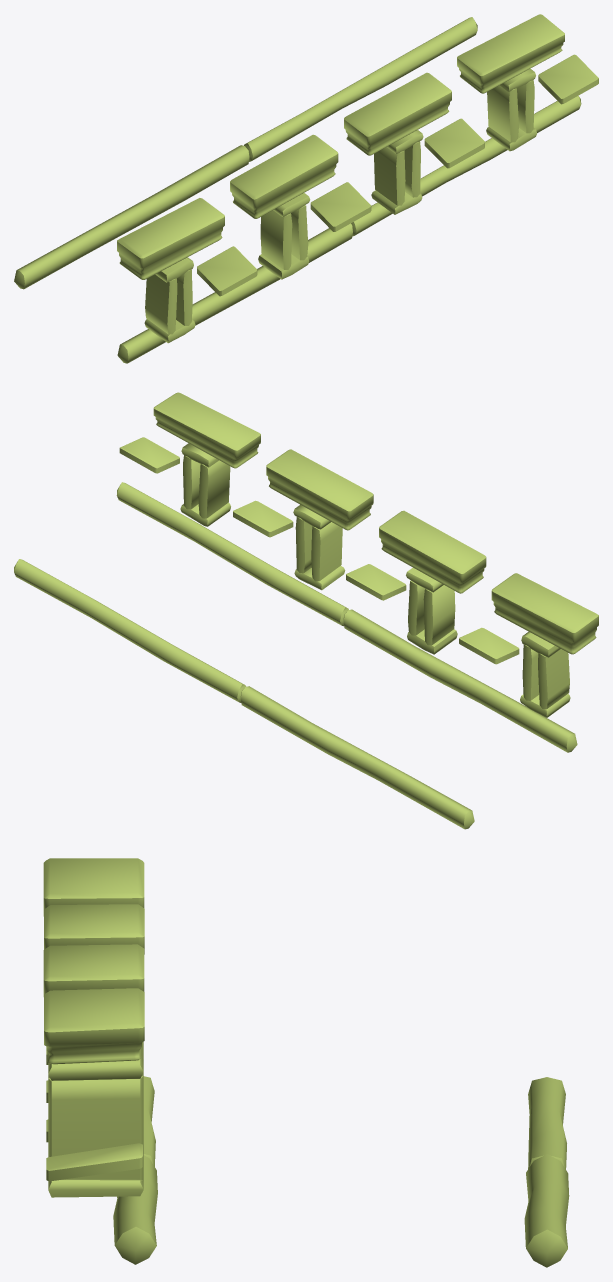
File: wall_outer_10m_up_deco.fbx
The picture shows the model from 3 angles, top to bottom: view 1: azimuth 30°, elevation 25°; view 2: azimuth 150°, elevation 25°; view 3: azimuth 270°, elevation 25°; orthographic projection. The views are drawn at different scales.
Visible parts, largest first — view 1: Cube.096; view 2: Cube.096; view 3: Cube.096.
Boxes of the visible parts, bbox=[...] form: Cube.096: bbox=[14, 14, 598, 363]; Cube.096: bbox=[14, 392, 598, 829]; Cube.096: bbox=[43, 858, 569, 1267].
Size of the model in its own units: 10.18 by 5.2 by 5.03.
